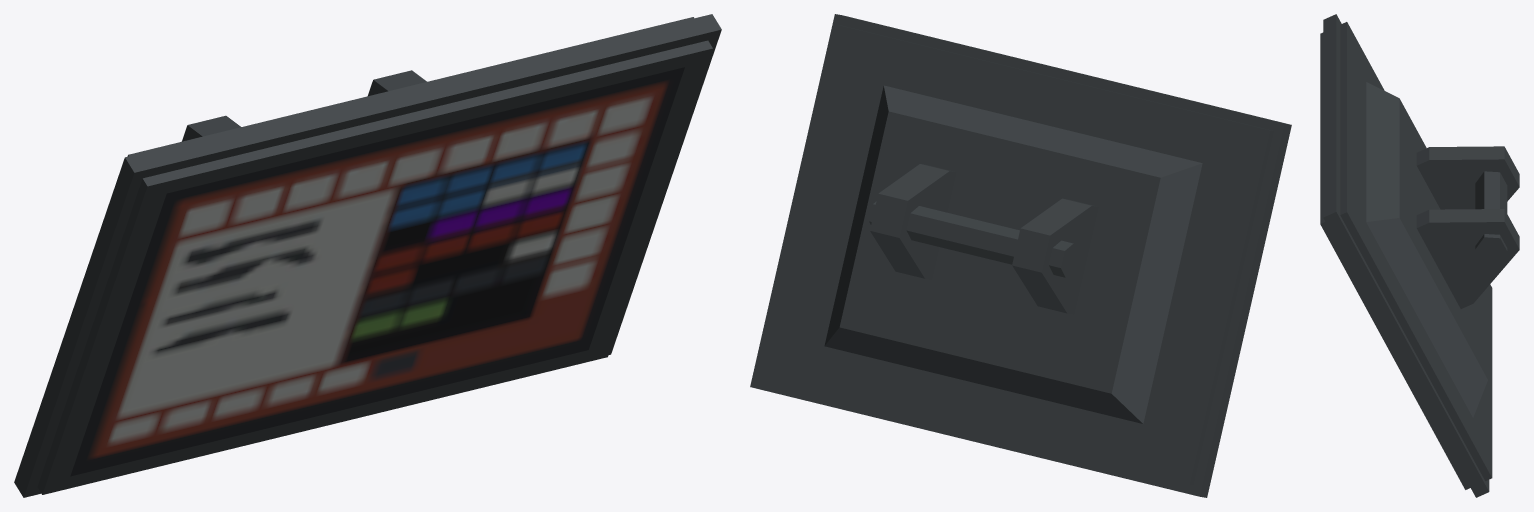
Rendered from SM_Prop_Kitchen_Monitor_01_Screen_02.obj.
3 views of the same model, side by side, from view 1: azimuth 30°, elevation 25°; view 2: azimuth 150°, elevation 25°; view 3: azimuth 270°, elevation 25° (orthographic). The views are drawn at different scales.
Parts seen in each view (by area): view 1: SM_Prop_Kitchen_Monitor_01_Screen_02_0; view 2: SM_Prop_Kitchen_Monitor_01_Screen_02_0; view 3: SM_Prop_Kitchen_Monitor_01_Screen_02_0.
Part boxes in pixels (x1=…): SM_Prop_Kitchen_Monitor_01_Screen_02_0: x1=14, y1=14, x2=721, y2=497; SM_Prop_Kitchen_Monitor_01_Screen_02_0: x1=750, y1=14, x2=1291, y2=497; SM_Prop_Kitchen_Monitor_01_Screen_02_0: x1=1320, y1=14, x2=1519, y2=497.
Bounding box in the file's own units: 0.805 × 0.5431 × 0.3432.
1 material, 1 textured.
